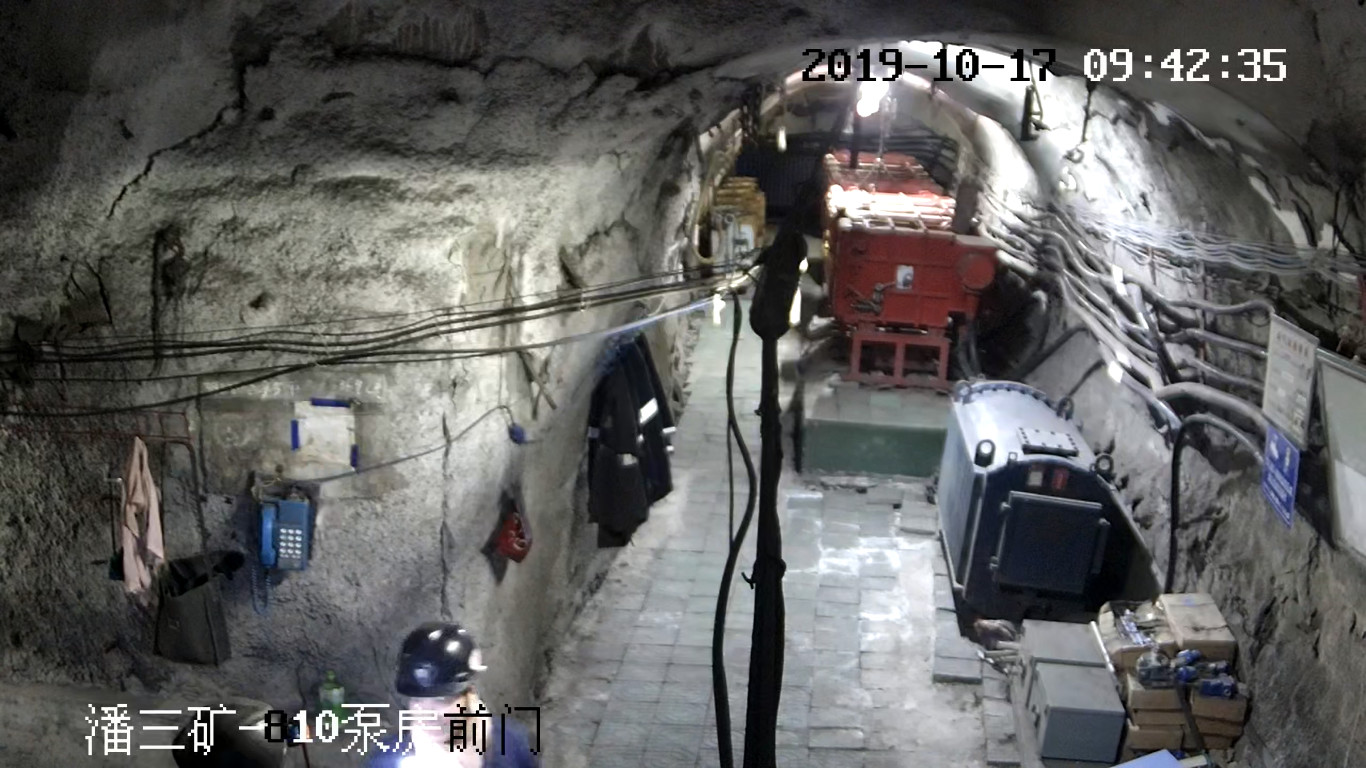helmet: (394, 621, 488, 697)
